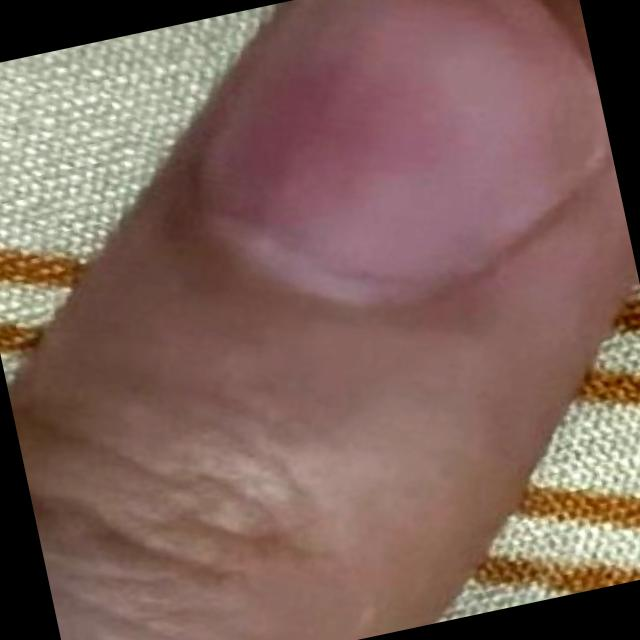Nail: (205, 0, 605, 310)
